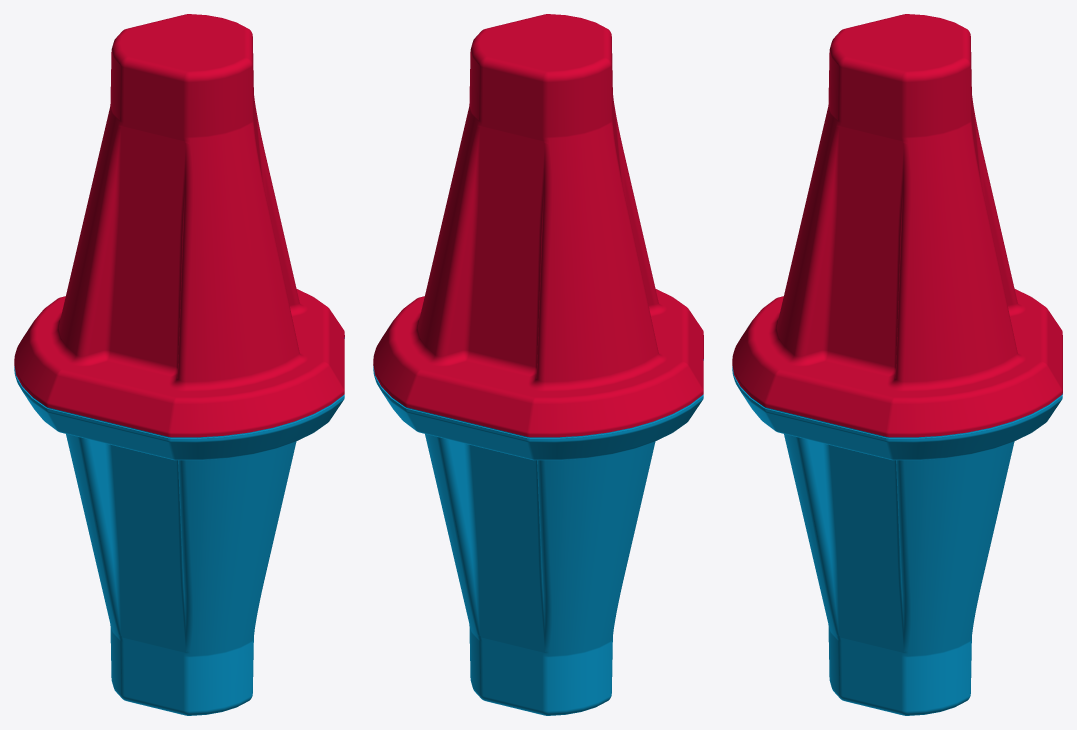
Rendered from V5RC-Override-H2H-_-RedBluePin.glb.
The picture shows the model from 3 angles, left to right: view 1: azimuth 30°, elevation 25°; view 2: azimuth 150°, elevation 25°; view 3: azimuth 270°, elevation 25°; orthographic projection.
Parts seen in each view (by area): view 1: V5RC-Override-H2H-_-RedBluePin; view 2: V5RC-Override-H2H-_-RedBluePin; view 3: V5RC-Override-H2H-_-RedBluePin.
Part boxes in pixels (bbox=[...]): V5RC-Override-H2H-_-RedBluePin: bbox=[14, 14, 344, 715]; V5RC-Override-H2H-_-RedBluePin: bbox=[373, 14, 703, 715]; V5RC-Override-H2H-_-RedBluePin: bbox=[732, 14, 1062, 715].
Bounding box in the file's own units: 0.0801 × 0.165 × 0.0768.
